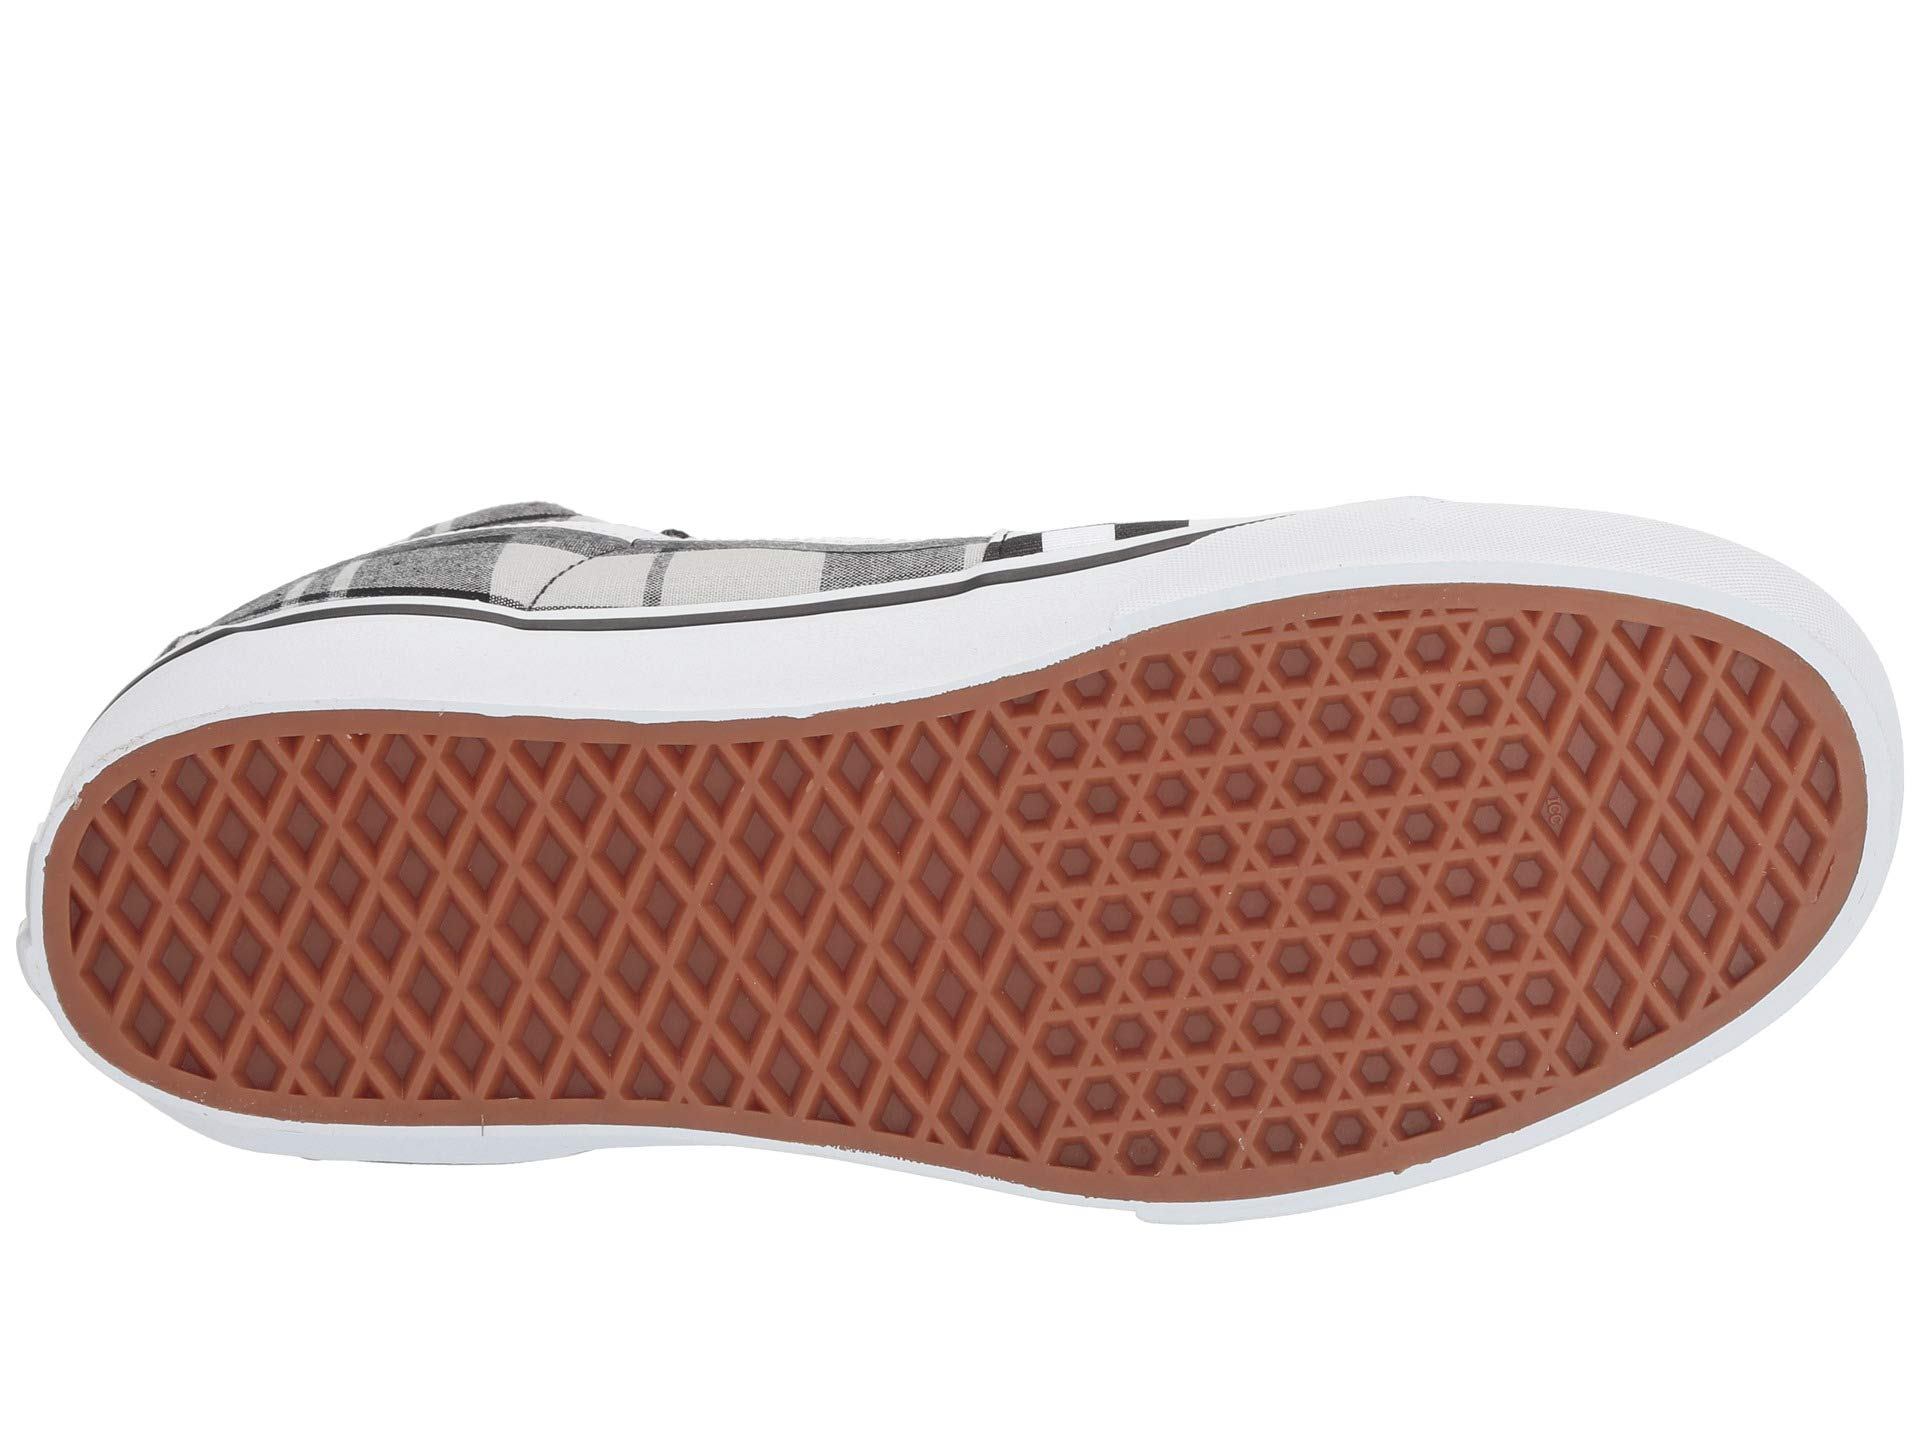polygon: (996, 718, 1395, 1139)
quad: (996, 718, 1395, 1139), (319, 773, 671, 1109), (1572, 737, 1816, 983)
triangle: (996, 718, 1395, 1139)
